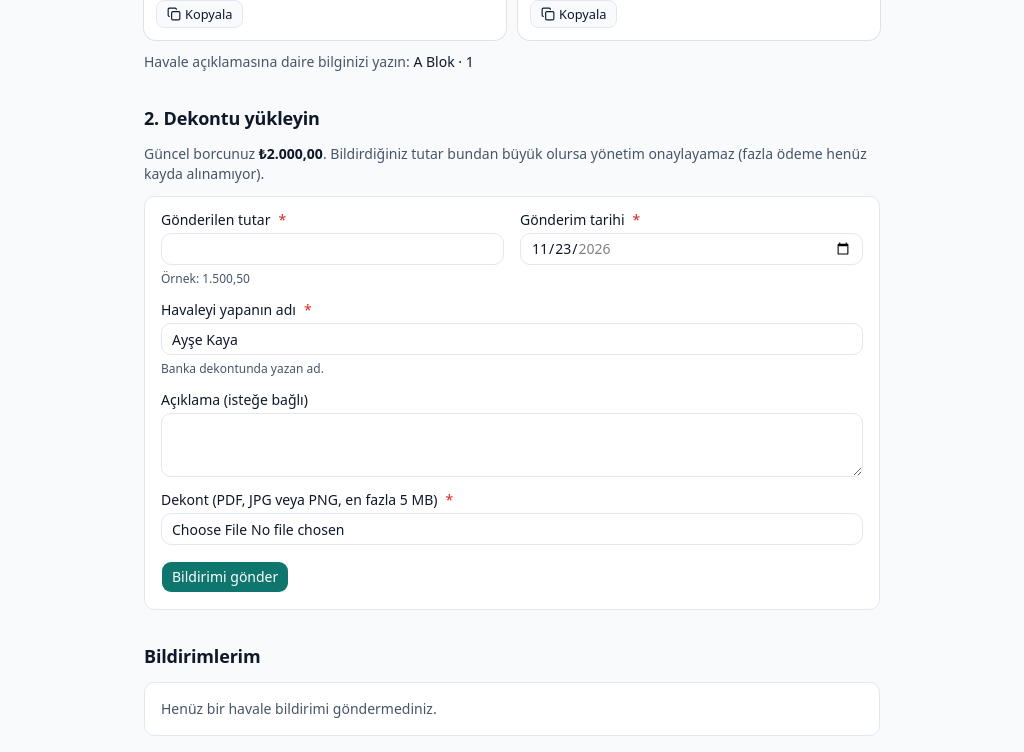
Havale Bildir: the form › shows friendly messages and sends nothing when the form is empty
(page scrolled)
Click the button "Bildirimi gönder". click: (225, 577)
box: [161,561,289,593]
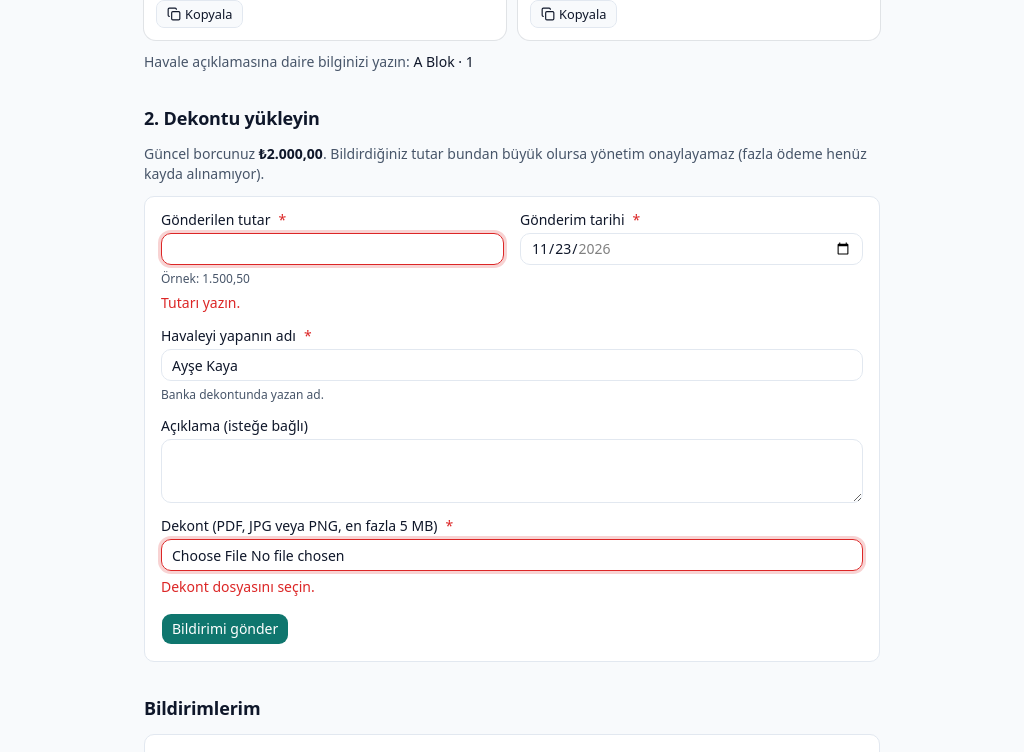
Check: the text "Tutarı yazın." is shown, box [161,293,240,312]
Check: the text "Dekont dosyasını seçin." is shown, box [161,577,315,596]
